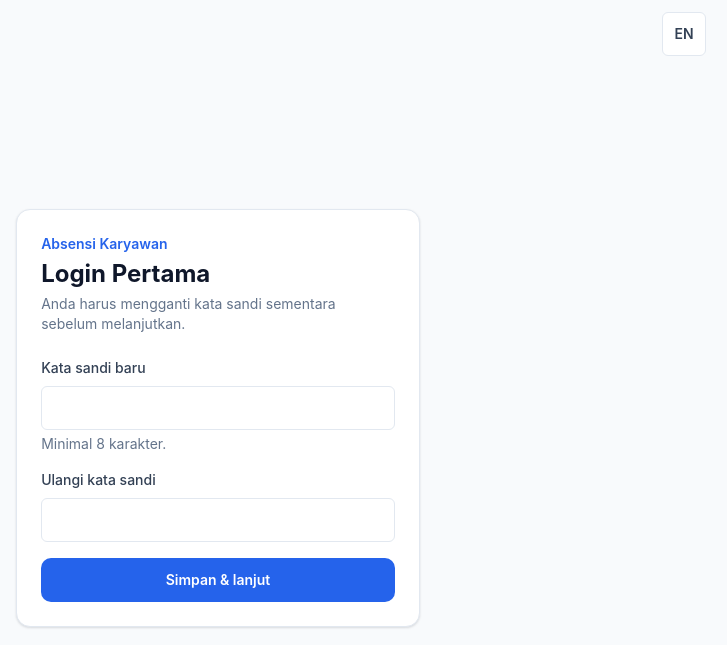
it: language toggle on every screen › switches the forced first-password screen to English immediately
Click the button with test id "lang-toggle" at (684, 34), box [662,12,706,56]
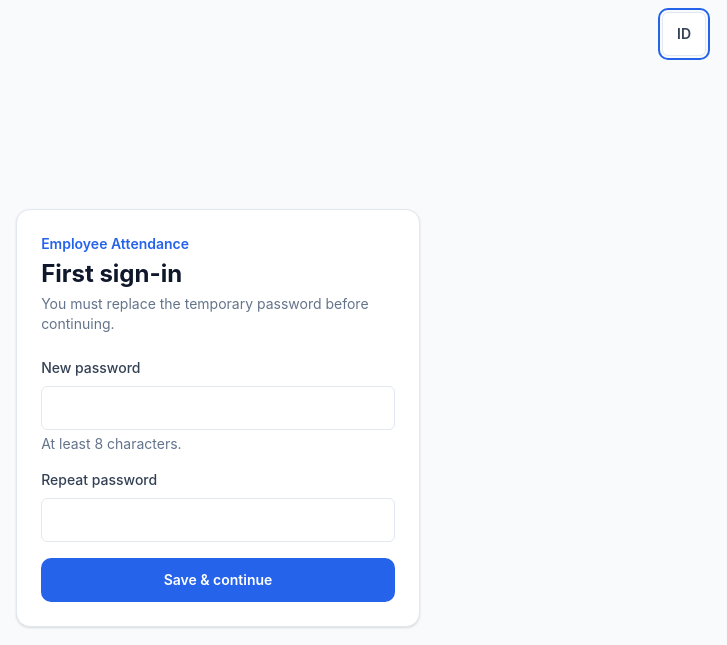
Check: the heading "First sign-in" is shown, box [41,259,182,288]
Check: the heading "Login Pertama" is gone
